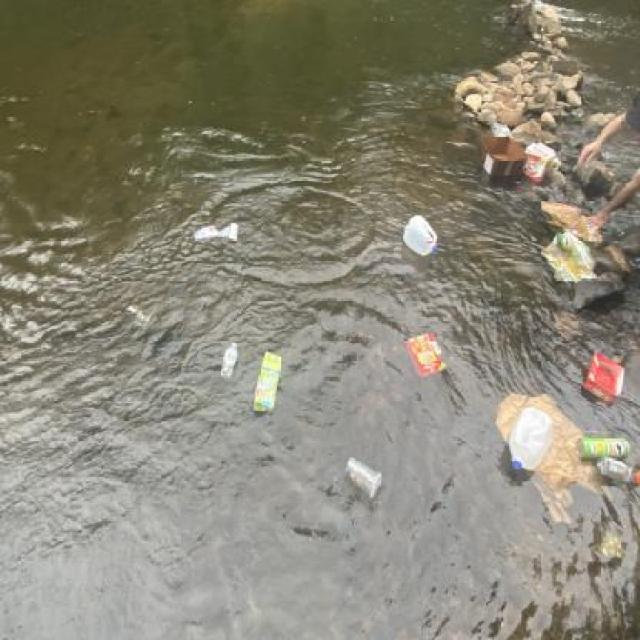Can-Metal: (575, 431, 630, 462)
Cardboard: (492, 390, 616, 530), (538, 231, 599, 283), (580, 349, 626, 406), (474, 132, 529, 178), (402, 332, 449, 379), (251, 350, 283, 416), (520, 137, 558, 185)
Paper: (537, 200, 603, 243)
Plastic: (504, 404, 554, 474), (342, 451, 384, 504), (400, 212, 440, 258), (594, 454, 640, 493), (191, 223, 243, 243), (219, 340, 241, 382), (488, 118, 514, 145)
